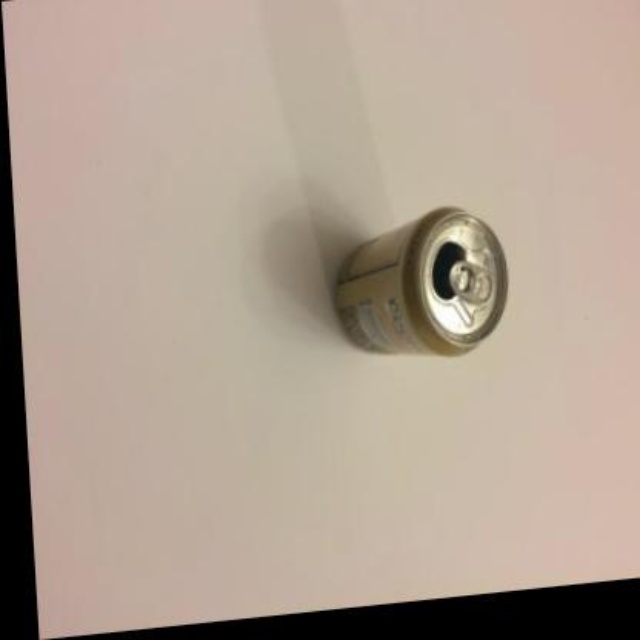trash: (335, 208, 506, 354)
